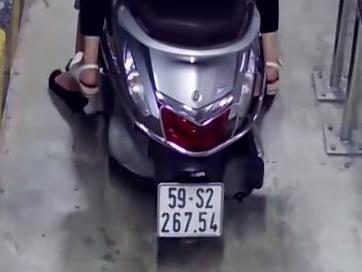num_plate: (156, 180, 226, 238)
